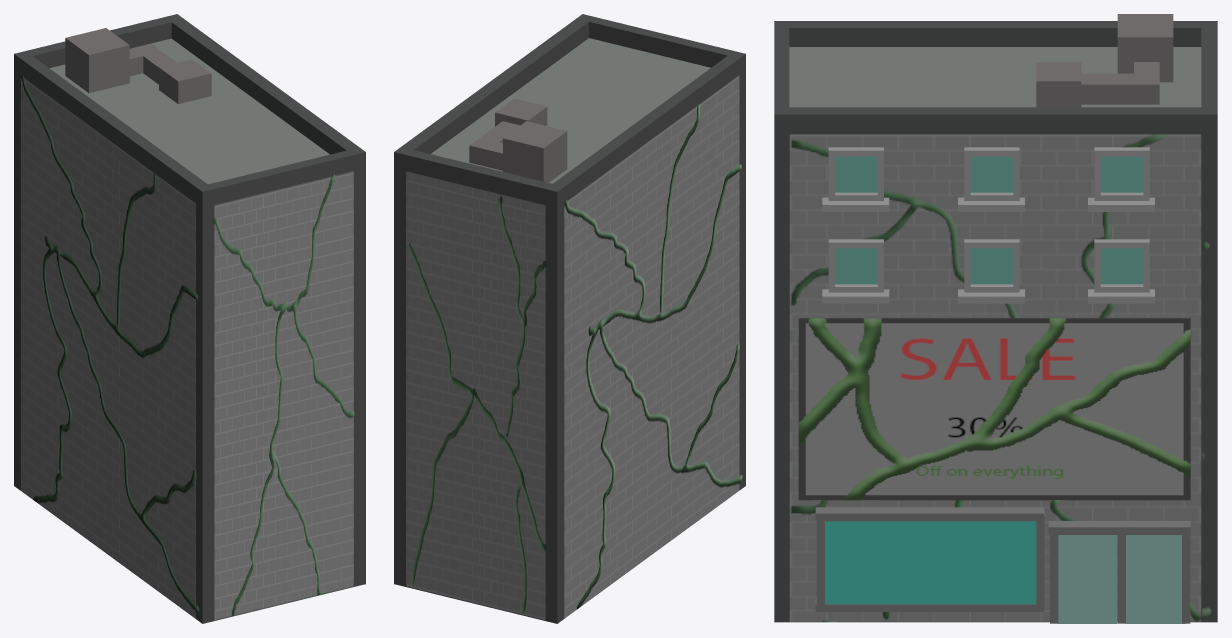
Rendered from Tallapartmentwithshopgrey.fbx.
The picture shows the model from 3 angles, left to right: view 1: azimuth 30°, elevation 25°; view 2: azimuth 150°, elevation 25°; view 3: azimuth 270°, elevation 25°; orthographic projection. The views are drawn at different scales.
Visible parts, largest first — view 1: polySurface137; view 2: polySurface137; view 3: polySurface137.
Part boxes in pixels (left/top/right/bottom): polySurface137: left=14, top=14, right=365, bottom=623; polySurface137: left=394, top=14, right=745, bottom=623; polySurface137: left=774, top=14, right=1217, bottom=623.
Size of the model in its own units: 4.31 by 10.62 by 8.
